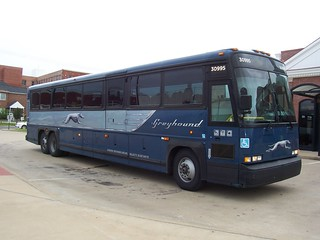bus: (25, 47, 301, 191)
